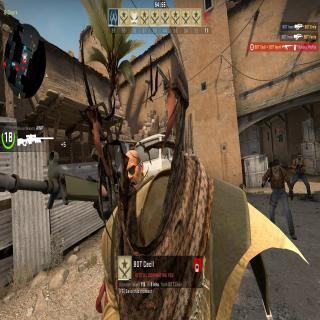T-Body: (262, 156, 296, 236), (292, 152, 312, 200)
T-Head: (122, 150, 142, 186), (271, 159, 280, 172), (297, 152, 302, 161)
